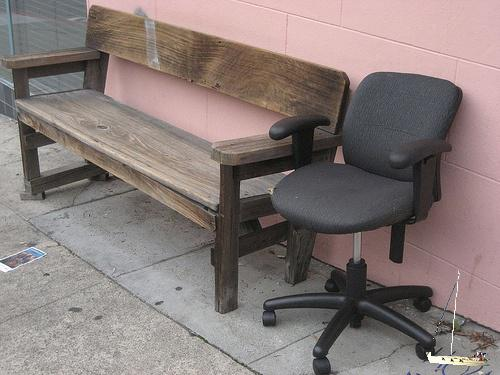tampered: (427, 271, 490, 366)
